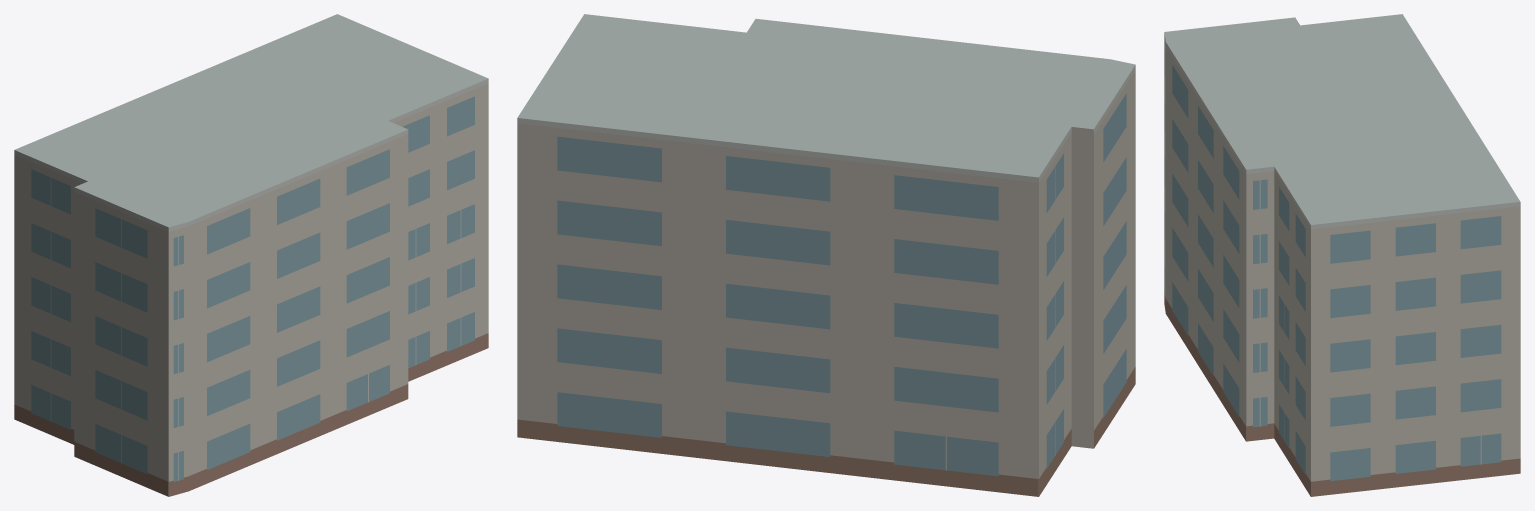
Rendered from survey-upis-32734578.glb.
3 renders of one model, left to right at view 1: azimuth 30°, elevation 25°; view 2: azimuth 150°, elevation 25°; view 3: azimuth 270°, elevation 25°, orthographic. The views are drawn at different scales.
Parts seen in each view (by area): view 1: survey-upis-32734578.tmp; view 2: survey-upis-32734578.tmp; view 3: survey-upis-32734578.tmp.
Boxes of the visible parts, x1,y1,x2,y2 form: survey-upis-32734578.tmp: [14, 14, 488, 496]; survey-upis-32734578.tmp: [517, 14, 1135, 496]; survey-upis-32734578.tmp: [1164, 14, 1520, 496].
Bounding box in the file's own units: 24.16 × 14.5 × 17.23.
